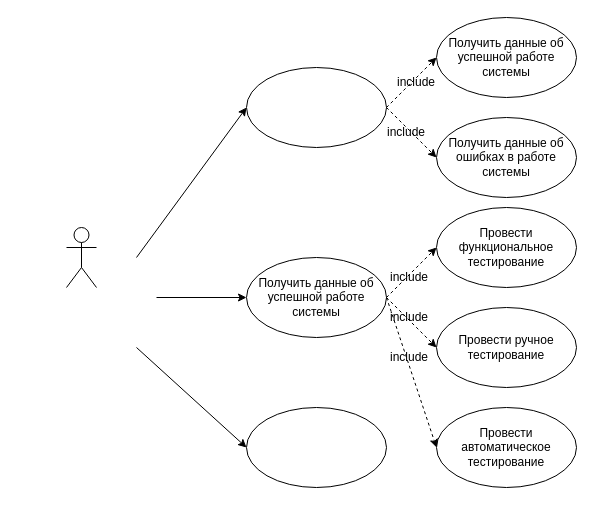
Some shapes in this 594 by 505 pixel diagram are drawn without their labels. The centre of each missing label's shape, as x and y in pixels:
"Получить вопросы, еще не добавленные в систему" belongs at point (316, 447).
"Получить данные о работе системы" belongs at point (316, 107).
"Пользователь системы управления навыками голосового помщника" belongs at point (81, 257).
